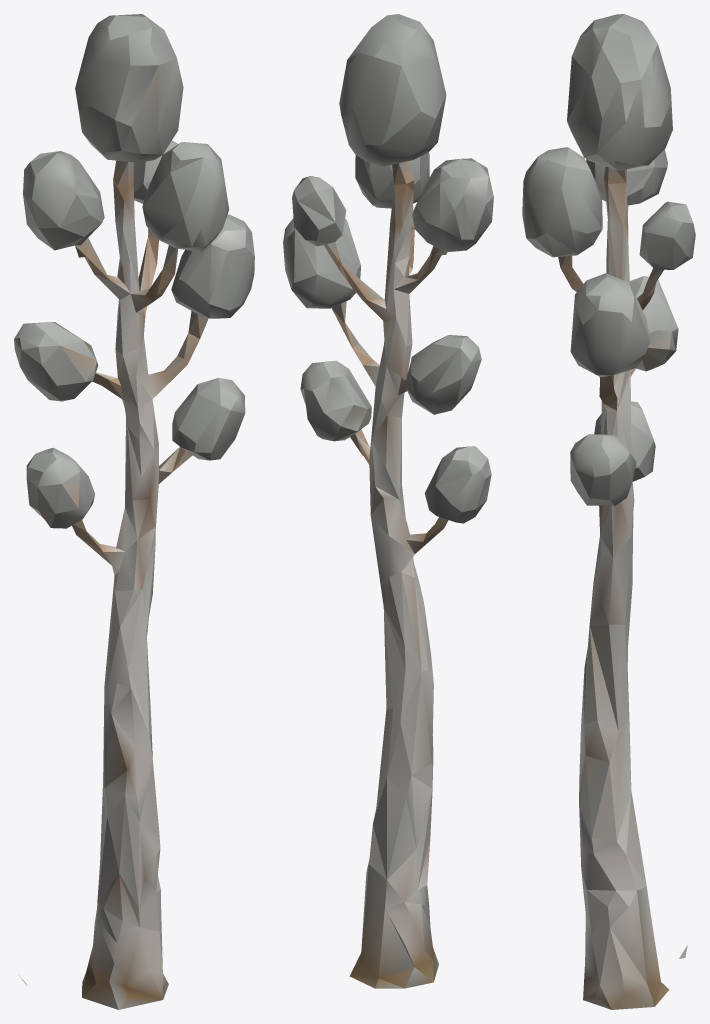
Rendered from birch.glb.
The picture shows the model from 3 angles, left to right: view 1: azimuth 30°, elevation 25°; view 2: azimuth 150°, elevation 25°; view 3: azimuth 270°, elevation 25°; orthographic projection. The views are drawn at different scales.
Visible parts, largest first — view 1: geometry_0; view 2: geometry_0; view 3: geometry_0.
Part boxes in pixels (x1,y1,x2,y2): geometry_0: (14,14,254,1009); geometry_0: (283,14,493,988); geometry_0: (522,14,695,1009).
Bounding box in the file's own units: 1.54 × 6.71 × 1.08.
